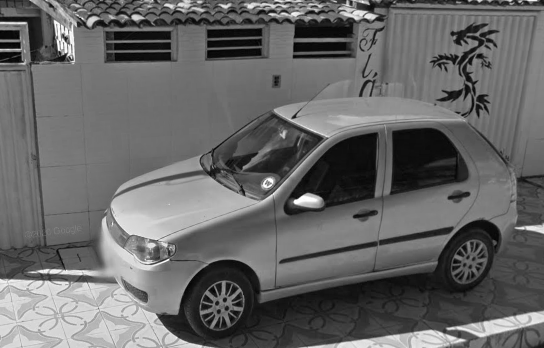car: (96, 82, 518, 339)
